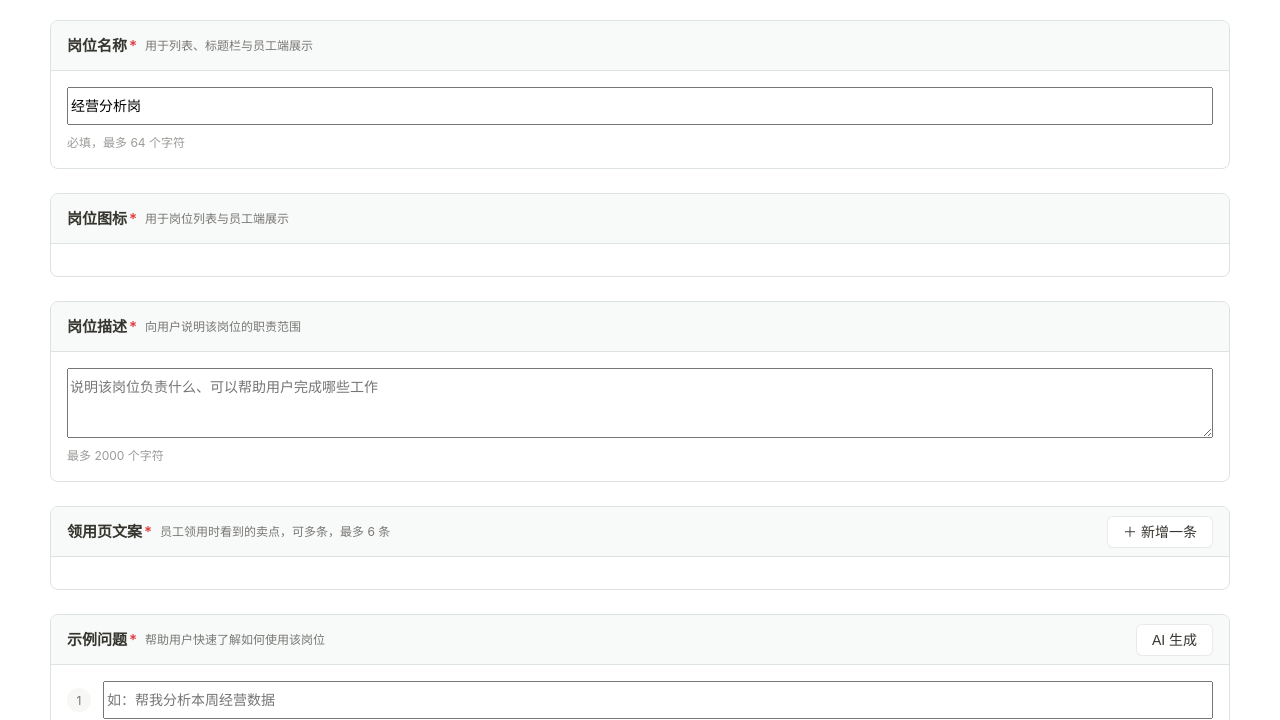
Test: 人格页签 · 【AI 生成】门与拟真生成（md §2.5 示例问题 / §2.6 岗位 SOP「岗位描述为空时按钮置灰禁用」「延迟 500ms 后自动生成」） › 填写岗位描述后 → 两处【AI 生成】恢复可用、不再带 tooltip
This screenshot has width=1280, height=720.
Type "负责经营数据汇总与分析" into the text box with placeholder "说明该岗位负责什么、可以帮助用户完成哪些工作".
click(640, 403); type("负责经营数据汇总与分析")  # box [67,368,1213,438]
(page scrolled)
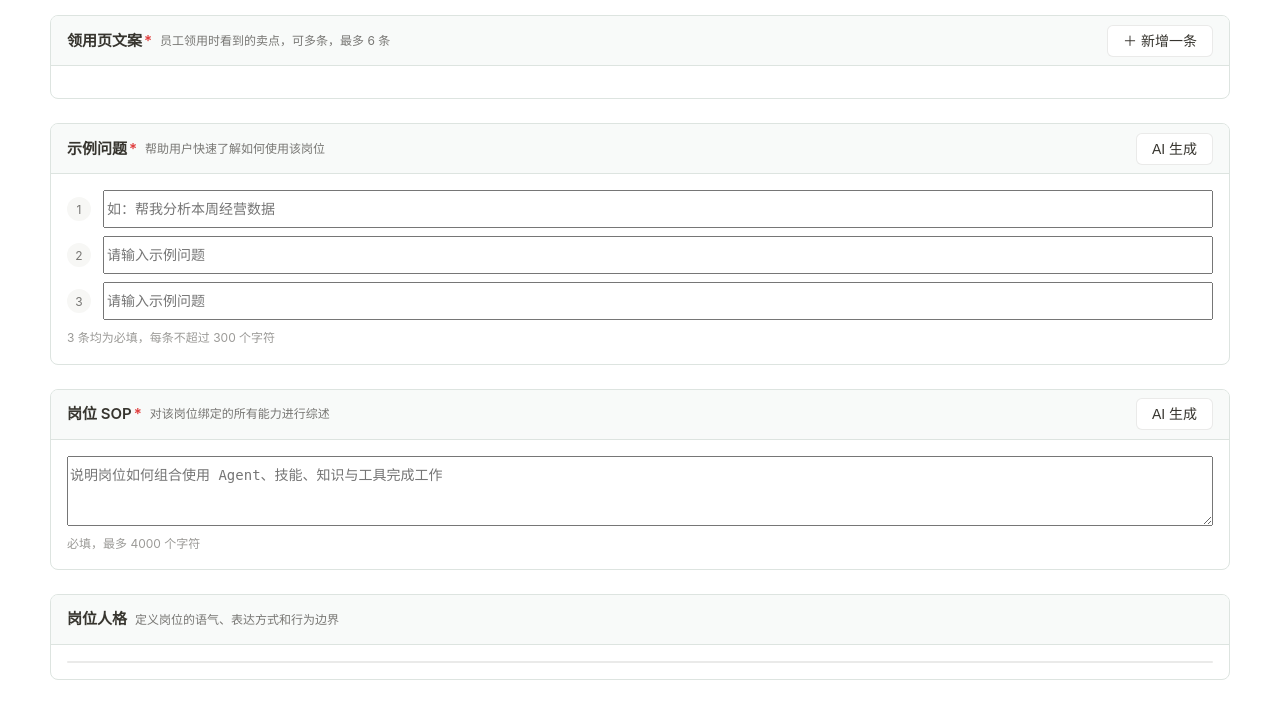
Check: the button "AI 生成" in the row of "帮助用户快速了解如何使用该岗位" is enabled, box [1136,133,1213,165]
Check: the button "AI 生成" in the row of "对该岗位绑定的所有能力进行综述" is enabled, box [1136,398,1213,430]
